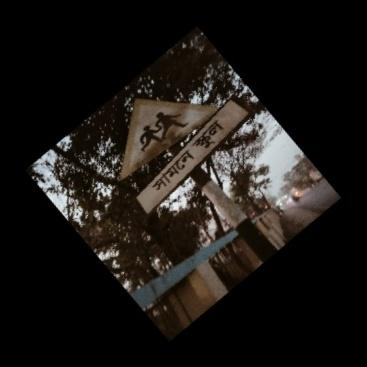School-in-front: (128, 98, 250, 216)
